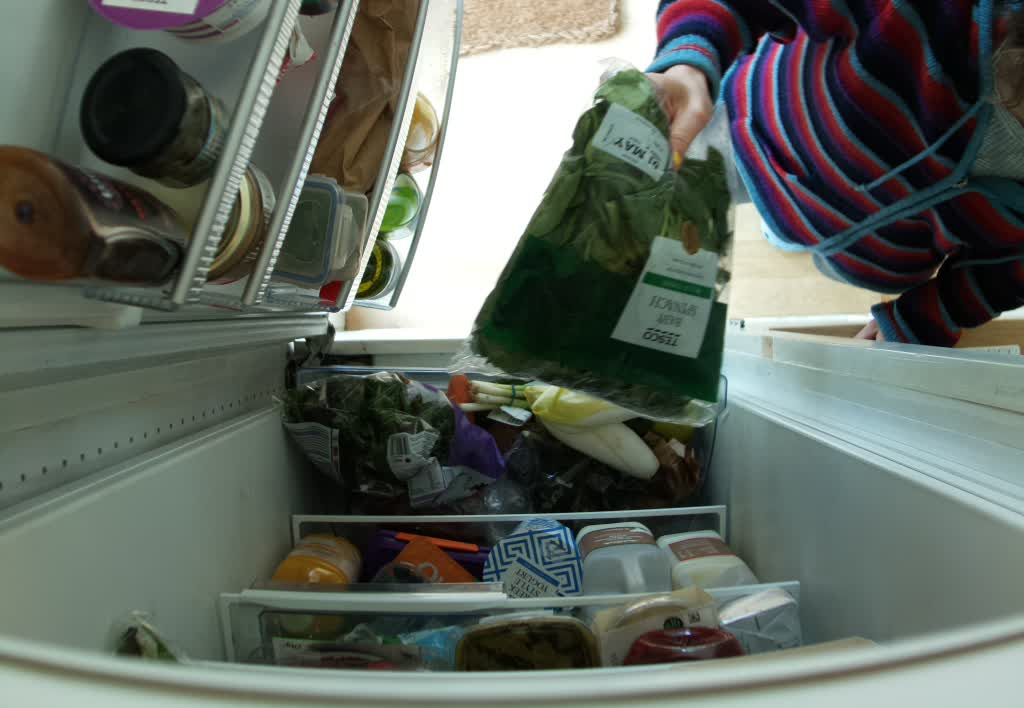salad: (475, 66, 731, 417), (284, 366, 510, 508), (524, 380, 663, 487)
